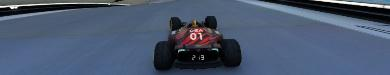Car: (152, 15, 241, 70)
